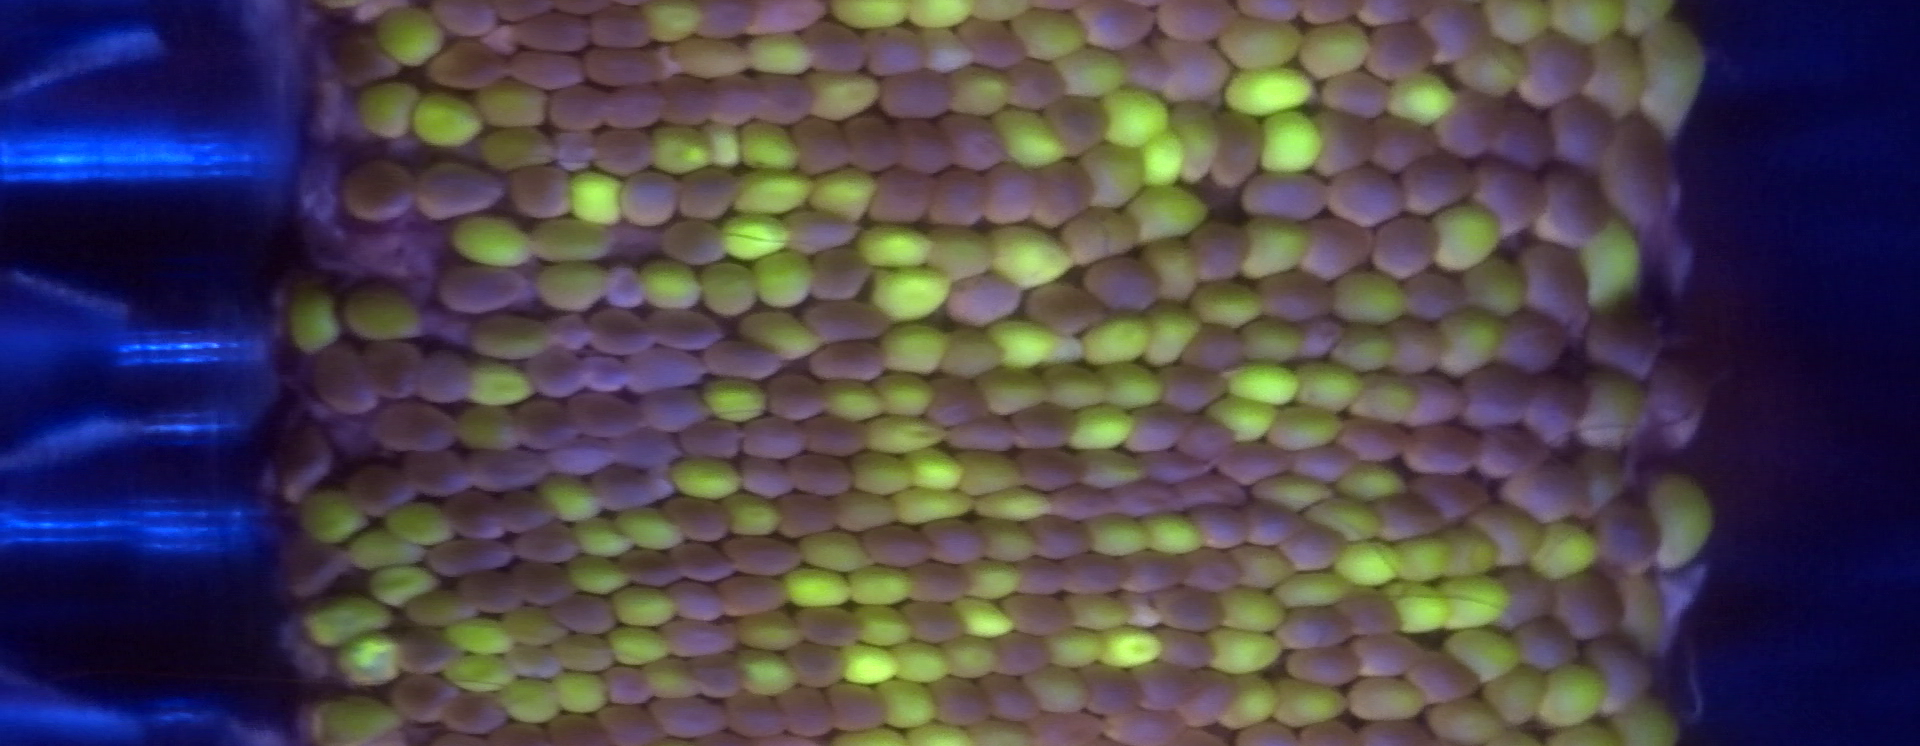fluorescent: (1647, 10, 1704, 137), (1656, 465, 1713, 579), (978, 219, 1071, 285), (1580, 225, 1640, 316), (344, 283, 426, 345), (1608, 575, 1671, 653), (1589, 371, 1648, 453), (1294, 353, 1365, 419), (1438, 571, 1513, 632), (1220, 69, 1314, 118), (447, 213, 527, 269), (740, 307, 817, 365), (1011, 5, 1082, 66), (1224, 15, 1302, 71), (1243, 206, 1303, 278), (1329, 267, 1407, 322), (475, 75, 549, 132), (998, 104, 1064, 168), (874, 268, 953, 321), (1101, 88, 1162, 156), (1440, 203, 1498, 274), (1464, 255, 1528, 318), (1539, 668, 1602, 733), (1449, 622, 1521, 677), (1131, 187, 1209, 239), (747, 247, 813, 307), (298, 486, 364, 546), (317, 594, 391, 648), (855, 219, 933, 269), (807, 167, 874, 224), (880, 321, 955, 372), (411, 93, 482, 147), (1057, 47, 1128, 100), (378, 2, 441, 62), (1300, 22, 1365, 80), (529, 223, 616, 266), (1302, 495, 1380, 541), (720, 212, 789, 265), (1336, 462, 1413, 508), (1079, 311, 1144, 366), (1445, 311, 1498, 379), (1278, 680, 1360, 723), (473, 129, 552, 173), (336, 630, 400, 684), (1259, 114, 1319, 171), (1047, 361, 1107, 419), (538, 258, 610, 306), (699, 254, 756, 315), (1393, 72, 1456, 127), (844, 639, 906, 695), (804, 72, 880, 118), (362, 559, 436, 605), (1229, 361, 1304, 407), (868, 412, 949, 453), (1455, 42, 1518, 94), (347, 527, 422, 571), (942, 323, 1000, 380), (733, 169, 811, 212), (433, 650, 511, 693), (1209, 626, 1280, 673), (975, 367, 1042, 416), (1096, 620, 1158, 673), (1087, 143, 1139, 207), (322, 695, 394, 740), (1140, 306, 1195, 365), (675, 458, 746, 503), (620, 503, 687, 551), (291, 293, 343, 355), (1204, 397, 1272, 443), (640, 261, 705, 310), (1618, 691, 1675, 746), (891, 483, 970, 523), (1080, 512, 1150, 557), (1218, 586, 1284, 633), (970, 488, 1060, 522), (951, 451, 1024, 494), (737, 646, 798, 696), (1338, 539, 1403, 586), (365, 77, 414, 138), (804, 530, 871, 576), (562, 552, 624, 600), (1444, 526, 1498, 581), (741, 125, 798, 176), (1488, 1, 1559, 43), (1540, 528, 1599, 578), (1194, 284, 1262, 327), (382, 503, 452, 545), (1271, 408, 1340, 450), (955, 61, 1007, 116), (1387, 583, 1442, 635), (474, 316, 544, 356), (996, 318, 1053, 367), (849, 451, 907, 499), (1232, 674, 1280, 733), (740, 608, 800, 654), (471, 361, 527, 412), (1338, 325, 1393, 375), (744, 29, 811, 71), (891, 644, 954, 688), (780, 567, 846, 609), (1067, 588, 1125, 635), (1554, 4, 1618, 47), (703, 119, 751, 175), (500, 680, 558, 725), (578, 173, 627, 225), (653, 122, 707, 170), (824, 375, 878, 423), (954, 594, 1009, 641), (546, 477, 602, 522), (610, 586, 675, 625), (444, 614, 509, 653), (878, 677, 936, 722), (878, 367, 928, 418), (1277, 575, 1353, 608), (569, 524, 637, 561), (1147, 512, 1200, 559), (1078, 404, 1133, 448), (707, 381, 769, 419), (1100, 361, 1155, 404), (959, 561, 1015, 603), (1360, 376, 1412, 421), (1244, 321, 1297, 365), (643, 661, 696, 706), (849, 561, 902, 604), (1261, 473, 1331, 506), (834, 492, 894, 530), (981, 521, 1033, 563), (460, 410, 518, 450), (558, 669, 605, 717), (1398, 539, 1449, 583), (733, 492, 784, 537), (945, 635, 996, 677), (856, 605, 910, 644), (504, 608, 560, 646), (612, 632, 669, 669), (909, 448, 958, 490), (555, 635, 605, 673), (1051, 628, 1097, 669), (1146, 135, 1182, 187), (651, 2, 699, 36)
nonfluorescent: (1604, 114, 1673, 234), (1515, 240, 1596, 334), (1538, 162, 1608, 254), (1516, 29, 1589, 110), (370, 401, 465, 458), (1209, 102, 1260, 202), (413, 160, 504, 216), (1505, 462, 1587, 521), (1647, 341, 1701, 428), (1558, 571, 1621, 644), (1597, 507, 1664, 576), (1325, 167, 1400, 228), (1400, 153, 1476, 213), (1526, 372, 1584, 450), (1547, 91, 1611, 160), (1433, 87, 1496, 158), (1479, 157, 1536, 236), (1260, 265, 1340, 321), (947, 276, 1033, 327), (318, 29, 399, 85), (347, 156, 411, 224), (502, 165, 579, 223), (1157, 40, 1229, 102), (440, 261, 531, 309), (460, 447, 550, 496), (1033, 158, 1093, 230), (801, 243, 876, 300), (1504, 307, 1570, 372), (313, 349, 376, 418), (280, 424, 336, 501), (945, 108, 1010, 173), (514, 392, 582, 454), (1151, 1, 1234, 51), (433, 40, 508, 96), (1367, 24, 1439, 80), (1084, 260, 1166, 307), (1476, 419, 1539, 480), (879, 69, 951, 122), (662, 214, 729, 273), (1074, 1, 1151, 51), (1412, 467, 1487, 518), (681, 162, 743, 223), (287, 541, 350, 601), (1316, 69, 1397, 115), (1406, 374, 1476, 428), (1025, 285, 1100, 336), (869, 169, 932, 229), (1375, 216, 1433, 281), (1253, 167, 1329, 216), (1309, 219, 1369, 281), (617, 169, 677, 230), (1589, 639, 1651, 699), (1427, 6, 1485, 69), (1188, 218, 1247, 281), (1269, 605, 1349, 650), (797, 111, 849, 183), (1367, 113, 1433, 168), (1412, 649, 1478, 704), (644, 310, 729, 353), (1333, 408, 1402, 461), (424, 535, 522, 572), (928, 673, 992, 729), (404, 445, 470, 499), (890, 118, 953, 174), (803, 296, 883, 341), (574, 388, 644, 439), (722, 687, 789, 740), (591, 122, 662, 171), (1284, 516, 1344, 573), (778, 641, 850, 688), (1387, 316, 1444, 377), (962, 13, 1025, 69), (1164, 363, 1228, 416), (661, 610, 735, 657), (987, 628, 1052, 681), (936, 167, 987, 233), (1398, 425, 1473, 470), (369, 339, 425, 399), (842, 110, 898, 171), (593, 465, 671, 508), (1101, 481, 1178, 524), (1513, 612, 1573, 668), (1584, 315, 1656, 361), (1348, 631, 1423, 675), (676, 416, 744, 464), (718, 570, 786, 617), (1315, 113, 1371, 170), (509, 47, 583, 91), (1494, 113, 1549, 171), (1157, 588, 1224, 636), (1374, 492, 1441, 540), (518, 521, 582, 571), (347, 469, 419, 513), (863, 18, 918, 76), (620, 539, 680, 592), (589, 310, 655, 358), (1243, 500, 1304, 551), (928, 518, 991, 568), (775, 492, 842, 539), (804, 341, 887, 379), (1002, 594, 1070, 639), (704, 70, 760, 125), (511, 563, 580, 608), (737, 416, 804, 462), (1131, 663, 1199, 708), (707, 334, 778, 377), (769, 370, 824, 425), (811, 21, 864, 77), (1473, 366, 1527, 423), (781, 684, 838, 737), (1501, 575, 1558, 628), (1054, 89, 1106, 148), (863, 522, 932, 566), (1288, 642, 1360, 684), (520, 12, 587, 58), (787, 454, 855, 499), (1131, 403, 1187, 457), (752, 71, 809, 122), (1033, 710, 1117, 746), (1226, 441, 1291, 486), (1003, 59, 1063, 108), (669, 494, 729, 543), (1284, 443, 1362, 481), (1573, 434, 1613, 508), (906, 559, 967, 606), (983, 165, 1033, 223), (1343, 592, 1402, 641), (660, 78, 714, 131), (992, 674, 1044, 728), (639, 390, 714, 428), (613, 426, 680, 469), (1119, 549, 1182, 594), (1067, 552, 1130, 597), (1180, 419, 1239, 467), (591, 704, 659, 746), (806, 410, 866, 457), (782, 212, 853, 251), (547, 595, 618, 635), (447, 494, 512, 537), (671, 538, 733, 582), (389, 628, 456, 670), (396, 677, 459, 720), (416, 355, 476, 401), (931, 375, 982, 428), (534, 347, 584, 401), (800, 601, 862, 644), (1187, 661, 1229, 724), (495, 488, 553, 533), (909, 600, 967, 646), (654, 696, 726, 733), (1025, 514, 1085, 559), (1085, 665, 1138, 715), (1188, 503, 1247, 548), (637, 352, 709, 387), (754, 1, 827, 37), (590, 6, 648, 50), (1180, 327, 1243, 367), (577, 352, 636, 394), (1160, 624, 1213, 670), (612, 85, 672, 126), (1016, 404, 1071, 450), (551, 436, 615, 475), (953, 416, 1016, 456), (1187, 545, 1243, 589), (1411, 274, 1463, 321), (1014, 556, 1069, 600), (553, 85, 613, 125), (913, 31, 973, 71), (602, 265, 651, 314), (463, 568, 520, 610), (1053, 480, 1109, 522), (587, 48, 654, 82), (829, 686, 883, 729), (664, 583, 722, 622), (729, 543, 800, 575), (1144, 450, 1207, 485), (699, 657, 747, 702), (1120, 48, 1174, 87), (547, 311, 594, 356), (442, 690, 501, 725), (1180, 474, 1240, 508), (1114, 710, 1172, 746), (738, 456, 792, 492), (443, 2, 495, 40), (1303, 314, 1344, 360), (601, 660, 647, 699), (699, 5, 747, 40), (549, 717, 596, 746), (1026, 453, 1075, 481)
